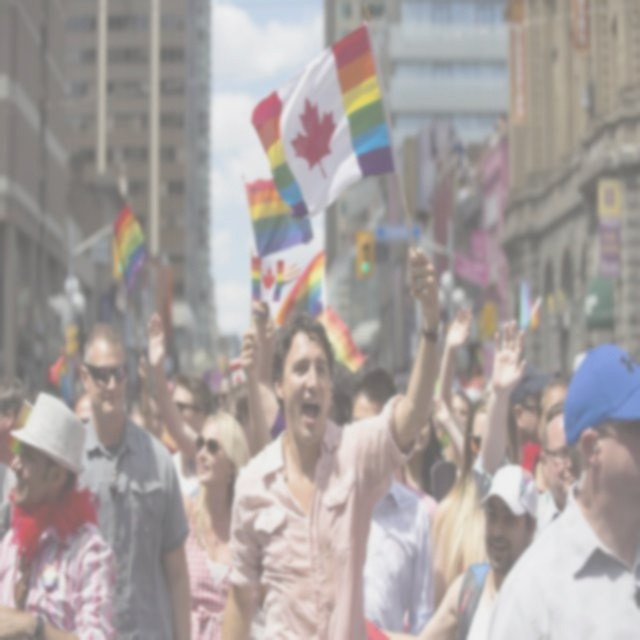pessoa: (214, 231, 451, 639), (235, 319, 438, 639), (326, 301, 474, 639), (74, 320, 194, 639), (126, 301, 286, 501), (0, 386, 123, 639), (378, 461, 538, 639), (473, 318, 576, 568), (428, 392, 522, 618), (182, 408, 264, 638), (528, 370, 572, 495), (0, 372, 28, 546), (64, 382, 96, 437)
